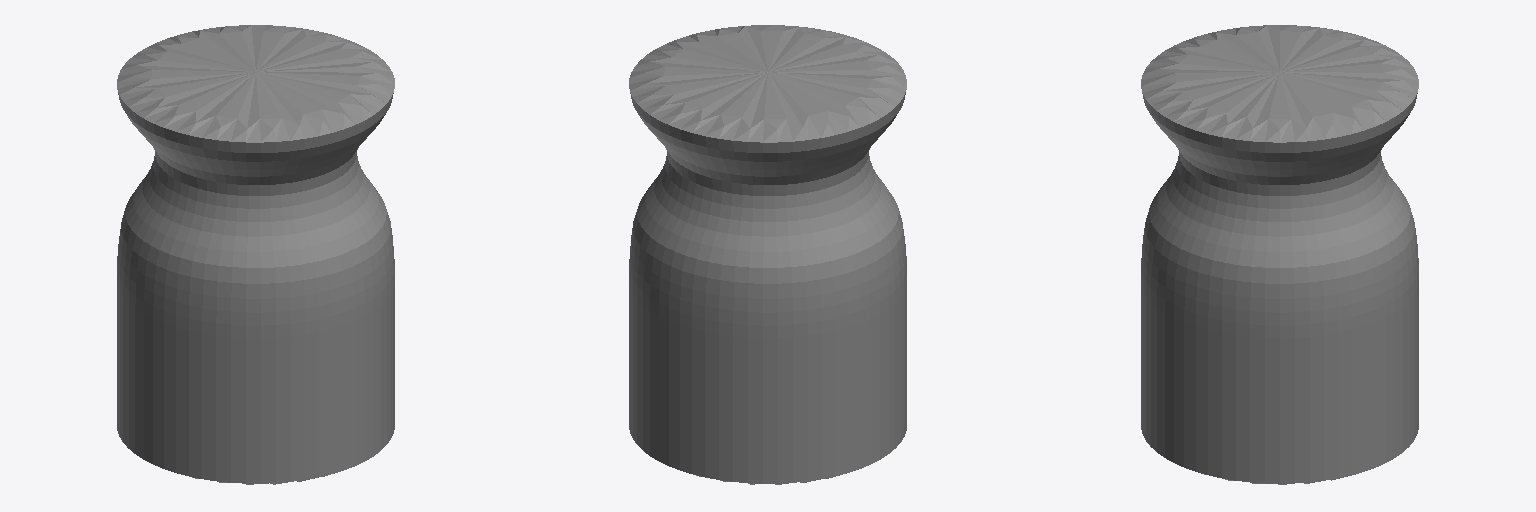
The model's file is Torso.obj.
The picture shows the model from 3 angles: view 1: azimuth 30°, elevation 25°; view 2: azimuth 150°, elevation 25°; view 3: azimuth 270°, elevation 25°; orthographic projection.
Visible parts, largest first — view 1: Cylinder001; view 2: Cylinder001; view 3: Cylinder001.
Part boxes in pixels (bbox=[...]): Cylinder001: bbox=[117, 25, 394, 484]; Cylinder001: bbox=[629, 25, 906, 484]; Cylinder001: bbox=[1141, 25, 1418, 484].
Bounding box in the file's own units: 21.01 × 30.6 × 20.98.